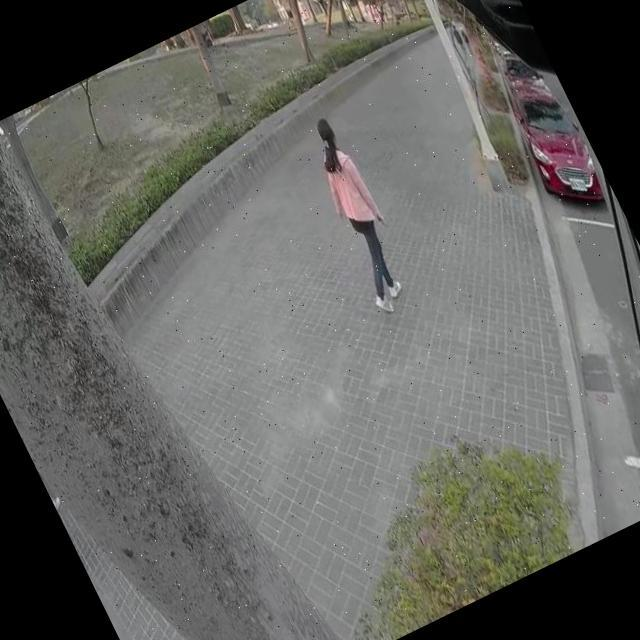person: (292, 112, 422, 316), (5, 400, 70, 525)
